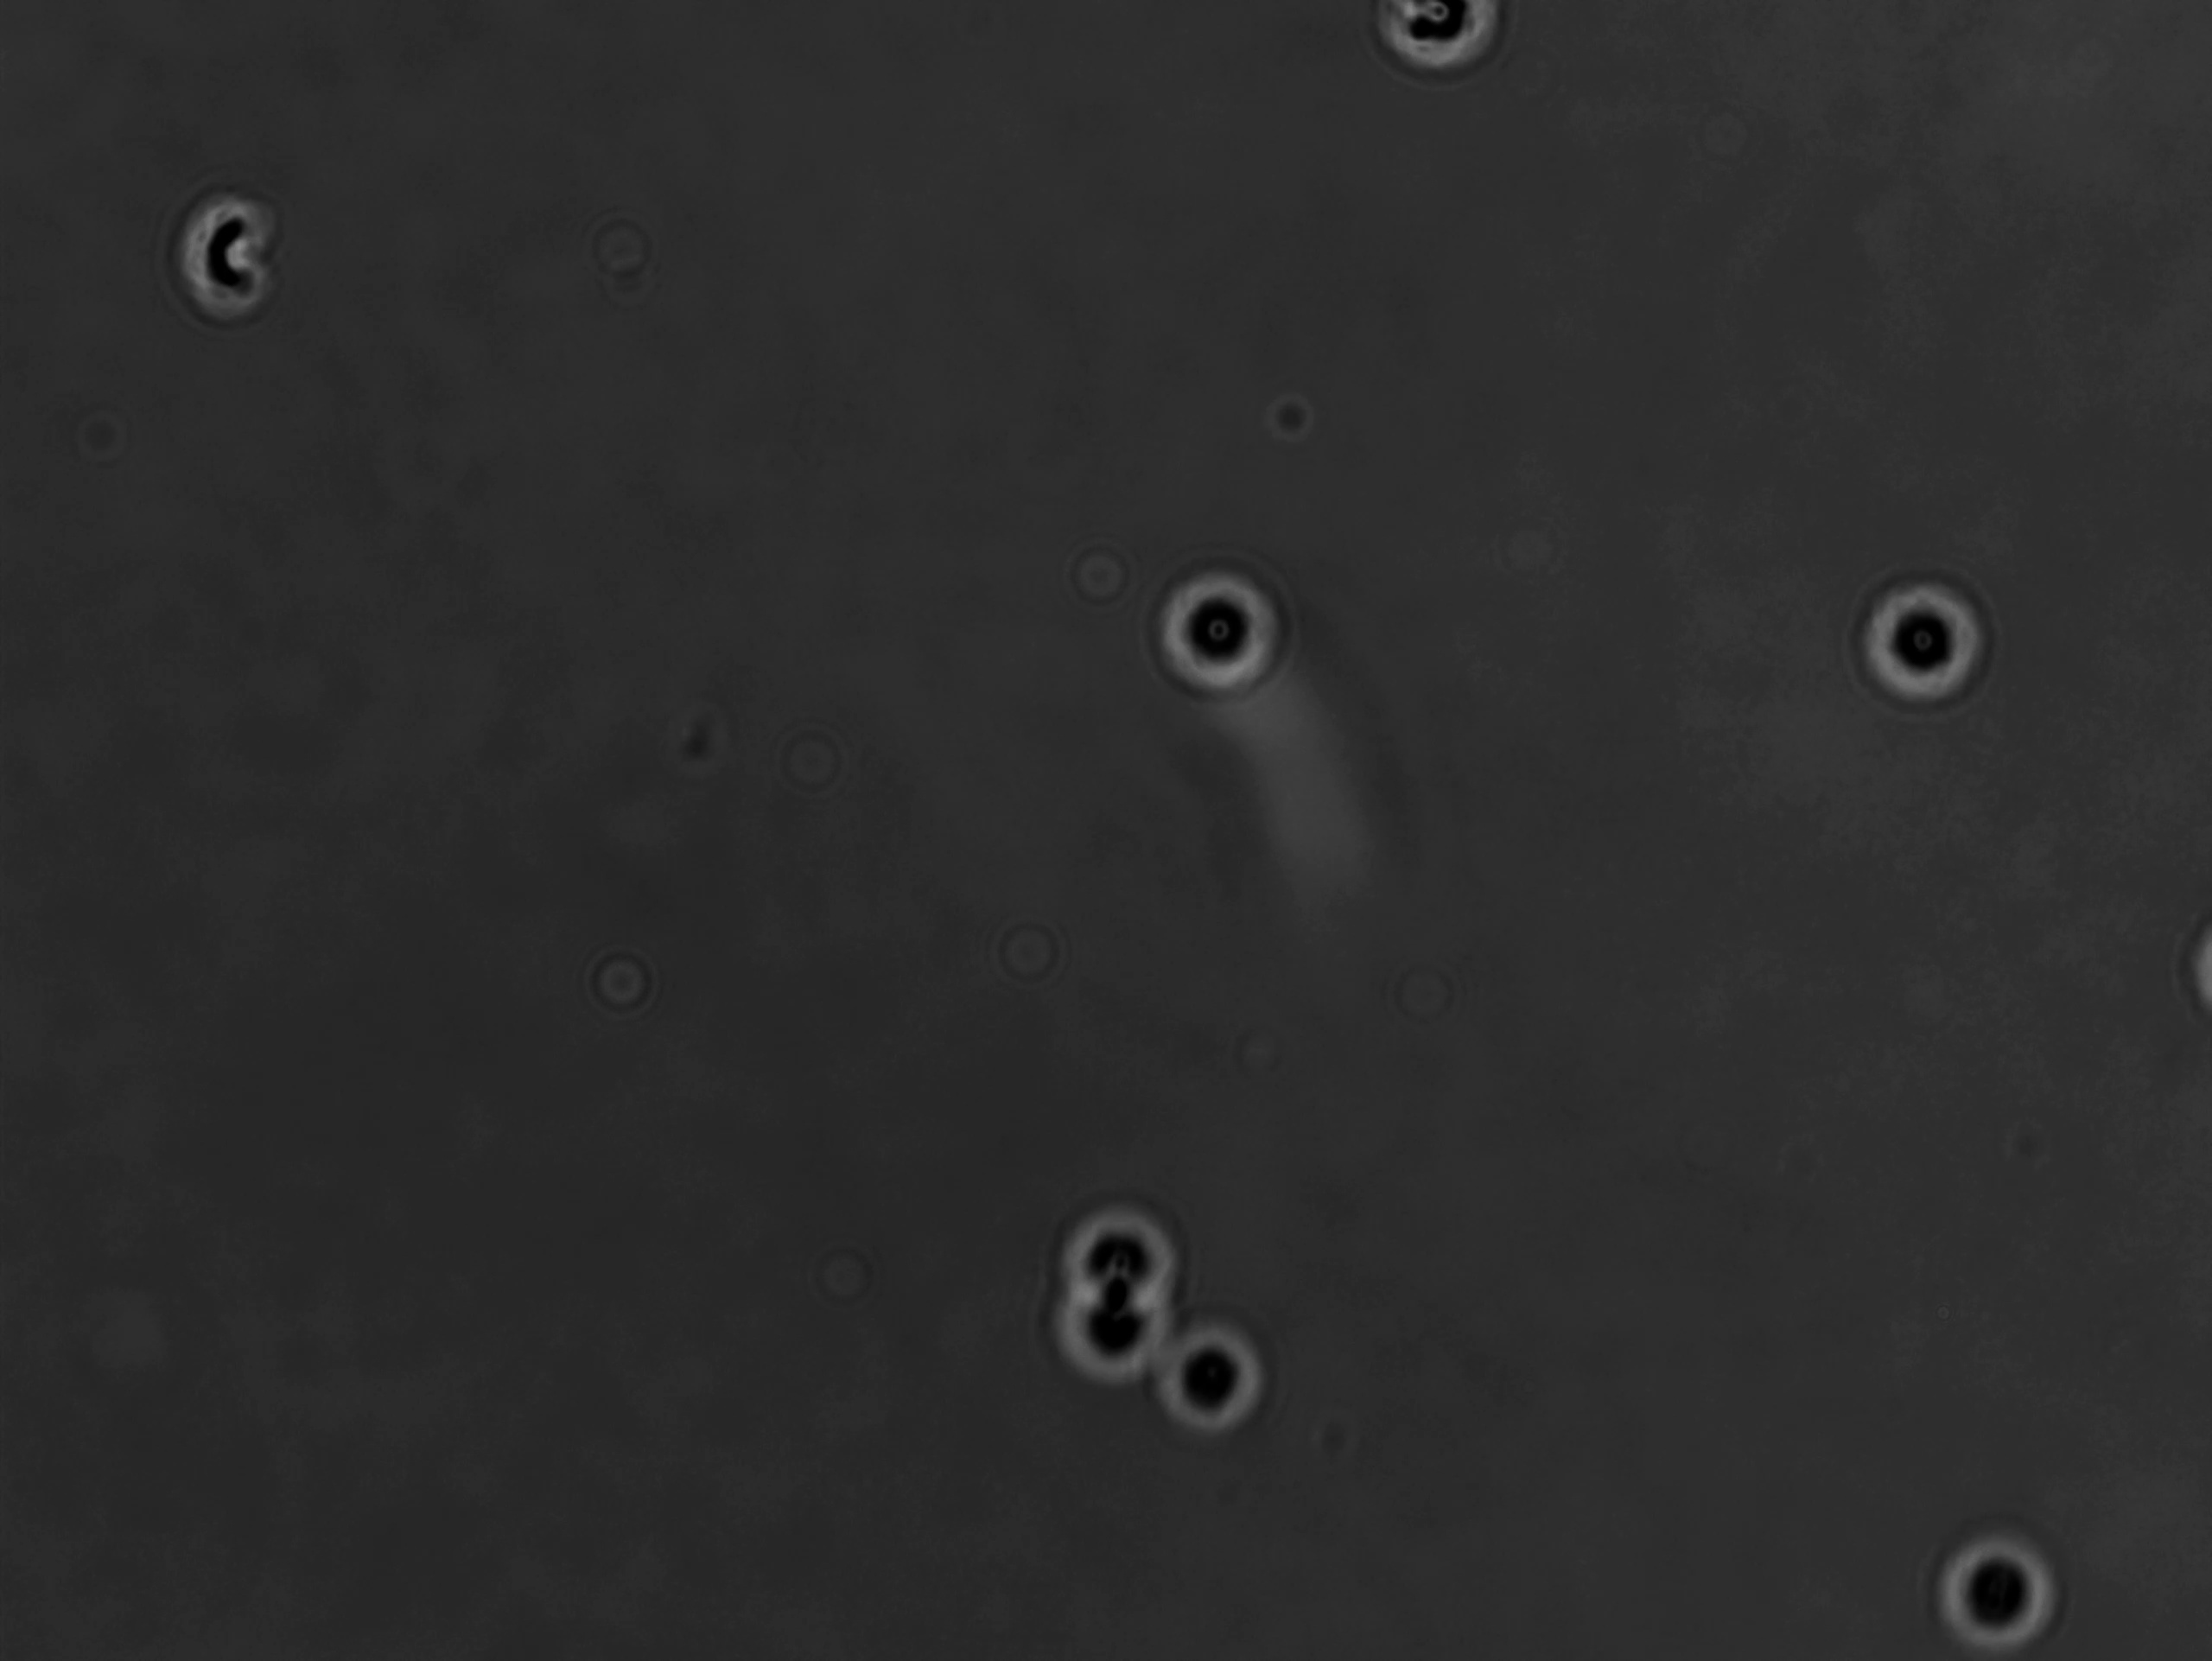depth:-20: (1926, 1499, 2111, 1661), (1137, 541, 1301, 722), (1847, 558, 2004, 731), (1054, 1164, 1228, 1317), (1141, 1300, 1294, 1455), (1038, 1260, 1202, 1398)
